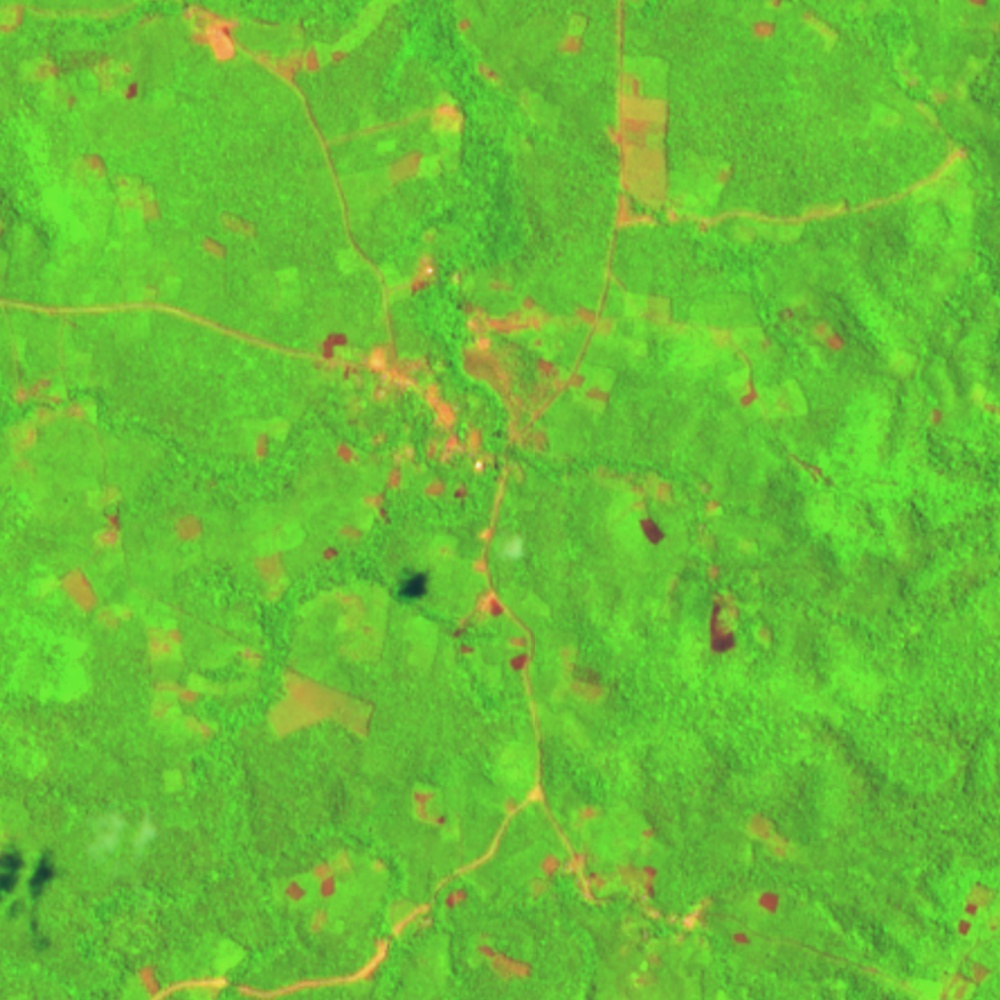legal: (51, 564, 381, 745), (315, 327, 501, 501), (475, 287, 614, 458), (454, 592, 612, 697), (172, 3, 353, 81), (543, 805, 671, 903), (327, 434, 419, 563), (595, 458, 722, 551), (272, 844, 393, 938), (614, 49, 673, 228), (86, 470, 208, 555), (5, 356, 94, 460), (375, 88, 467, 181), (443, 888, 538, 977), (936, 874, 1000, 996), (696, 562, 774, 659), (695, 326, 770, 425), (79, 150, 167, 225), (746, 1, 857, 59), (33, 49, 143, 105), (749, 808, 794, 918), (638, 904, 757, 945), (756, 303, 849, 354), (452, 6, 502, 90), (406, 776, 464, 844), (771, 439, 839, 492), (920, 390, 1000, 432), (194, 210, 257, 259), (240, 409, 295, 462), (552, 16, 591, 57), (472, 523, 495, 577)
